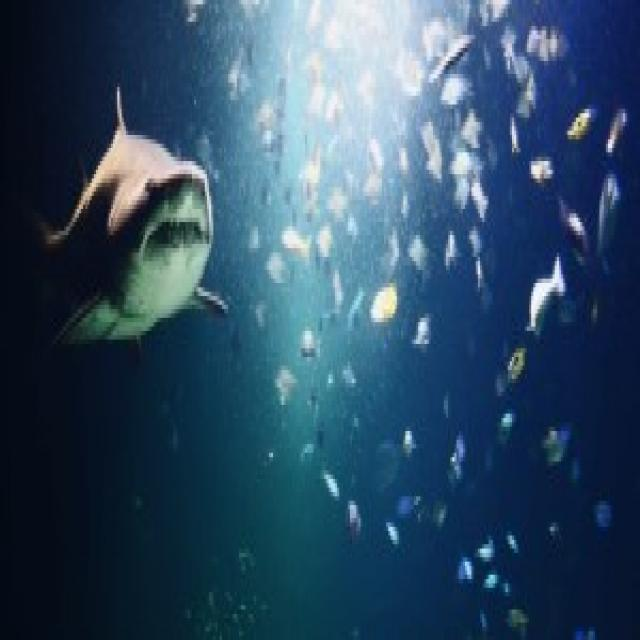Shark: (18, 90, 232, 355)
